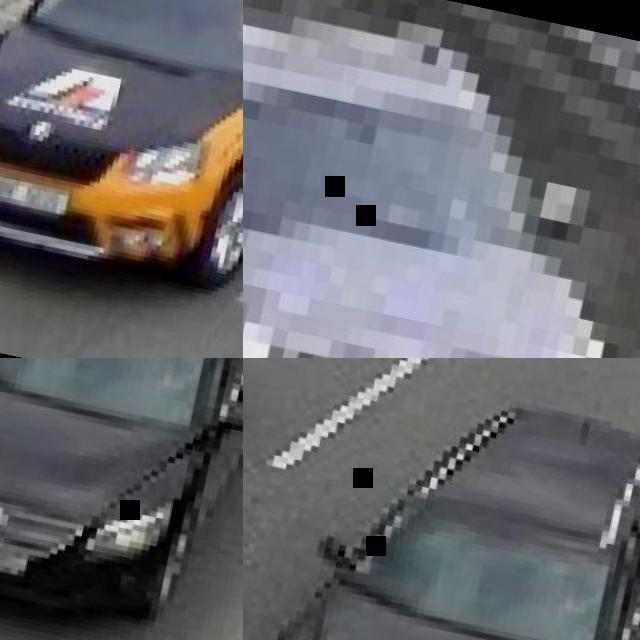car: (317, 402, 639, 638), (4, 0, 243, 283)
